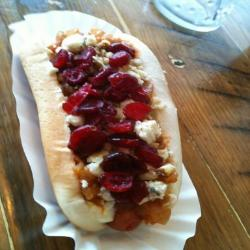hotdog: (22, 31, 184, 227)
